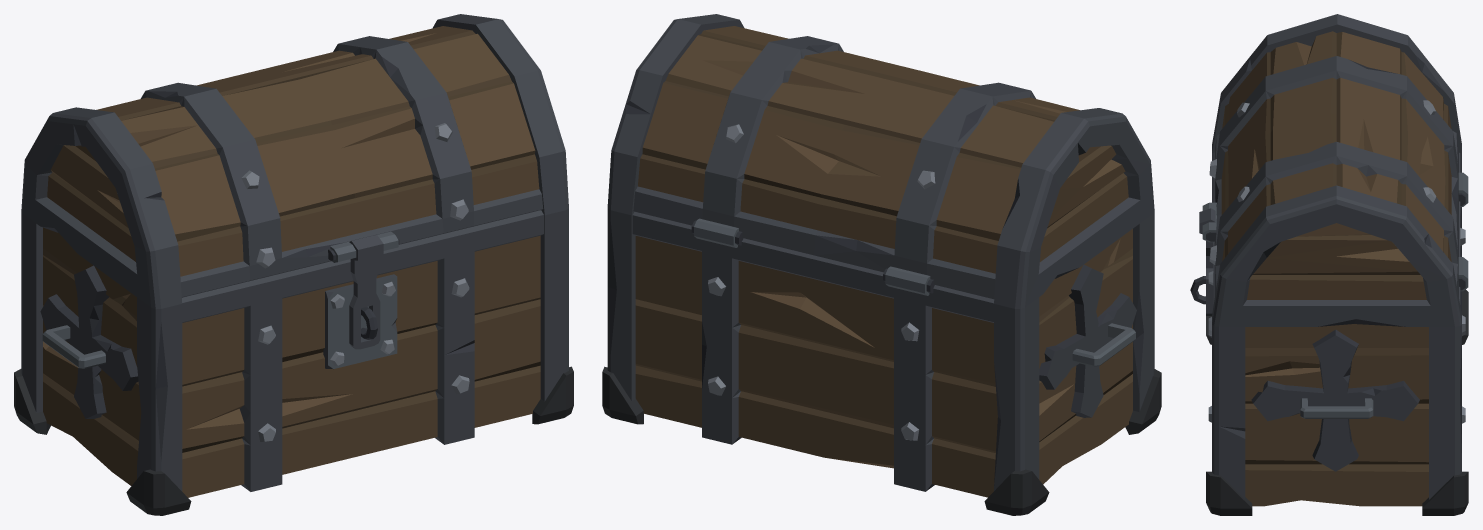
The model's file is crypt_chest.gltf.
3 renders of one model, left to right at view 1: azimuth 30°, elevation 25°; view 2: azimuth 150°, elevation 25°; view 3: azimuth 270°, elevation 25°, orthographic. The views are drawn at different scales.
Visible parts, largest first — view 1: crypt_chest; view 2: crypt_chest; view 3: crypt_chest.
Part boxes in pixels (x1,y1,x2,y2): crypt_chest: (14,14,573,515); crypt_chest: (602,14,1161,515); crypt_chest: (1190,14,1468,515).
Size of the model in its own units: 0.7923 by 0.5635 by 0.4426.
1 material, 1 textured.
